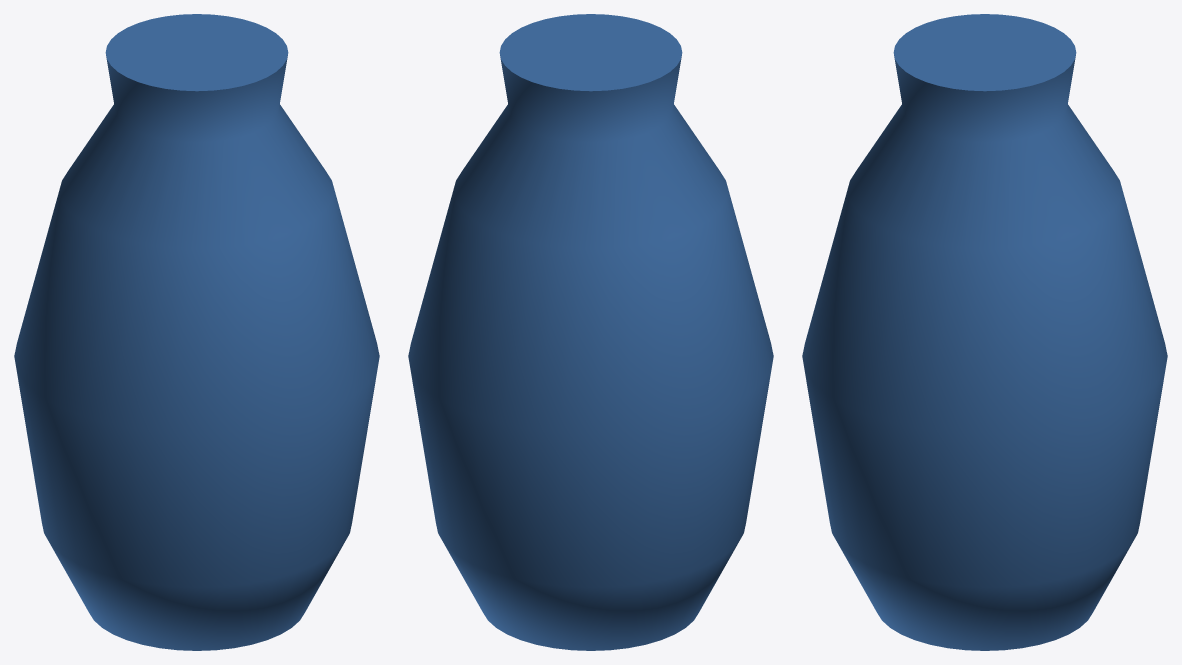
Rendered from vase-1.glb.
The picture shows the model from 3 angles, left to right: view 1: azimuth 30°, elevation 25°; view 2: azimuth 150°, elevation 25°; view 3: azimuth 270°, elevation 25°; orthographic projection.
Visible parts, largest first — view 1: produit; view 2: produit; view 3: produit.
Boxes of the visible parts, box(x1,y1,x2,y2) form: produit: box(14, 14, 379, 650); produit: box(408, 14, 773, 650); produit: box(802, 14, 1167, 650).
Bounding box in the file's own units: 0.12 × 0.2 × 0.12.
